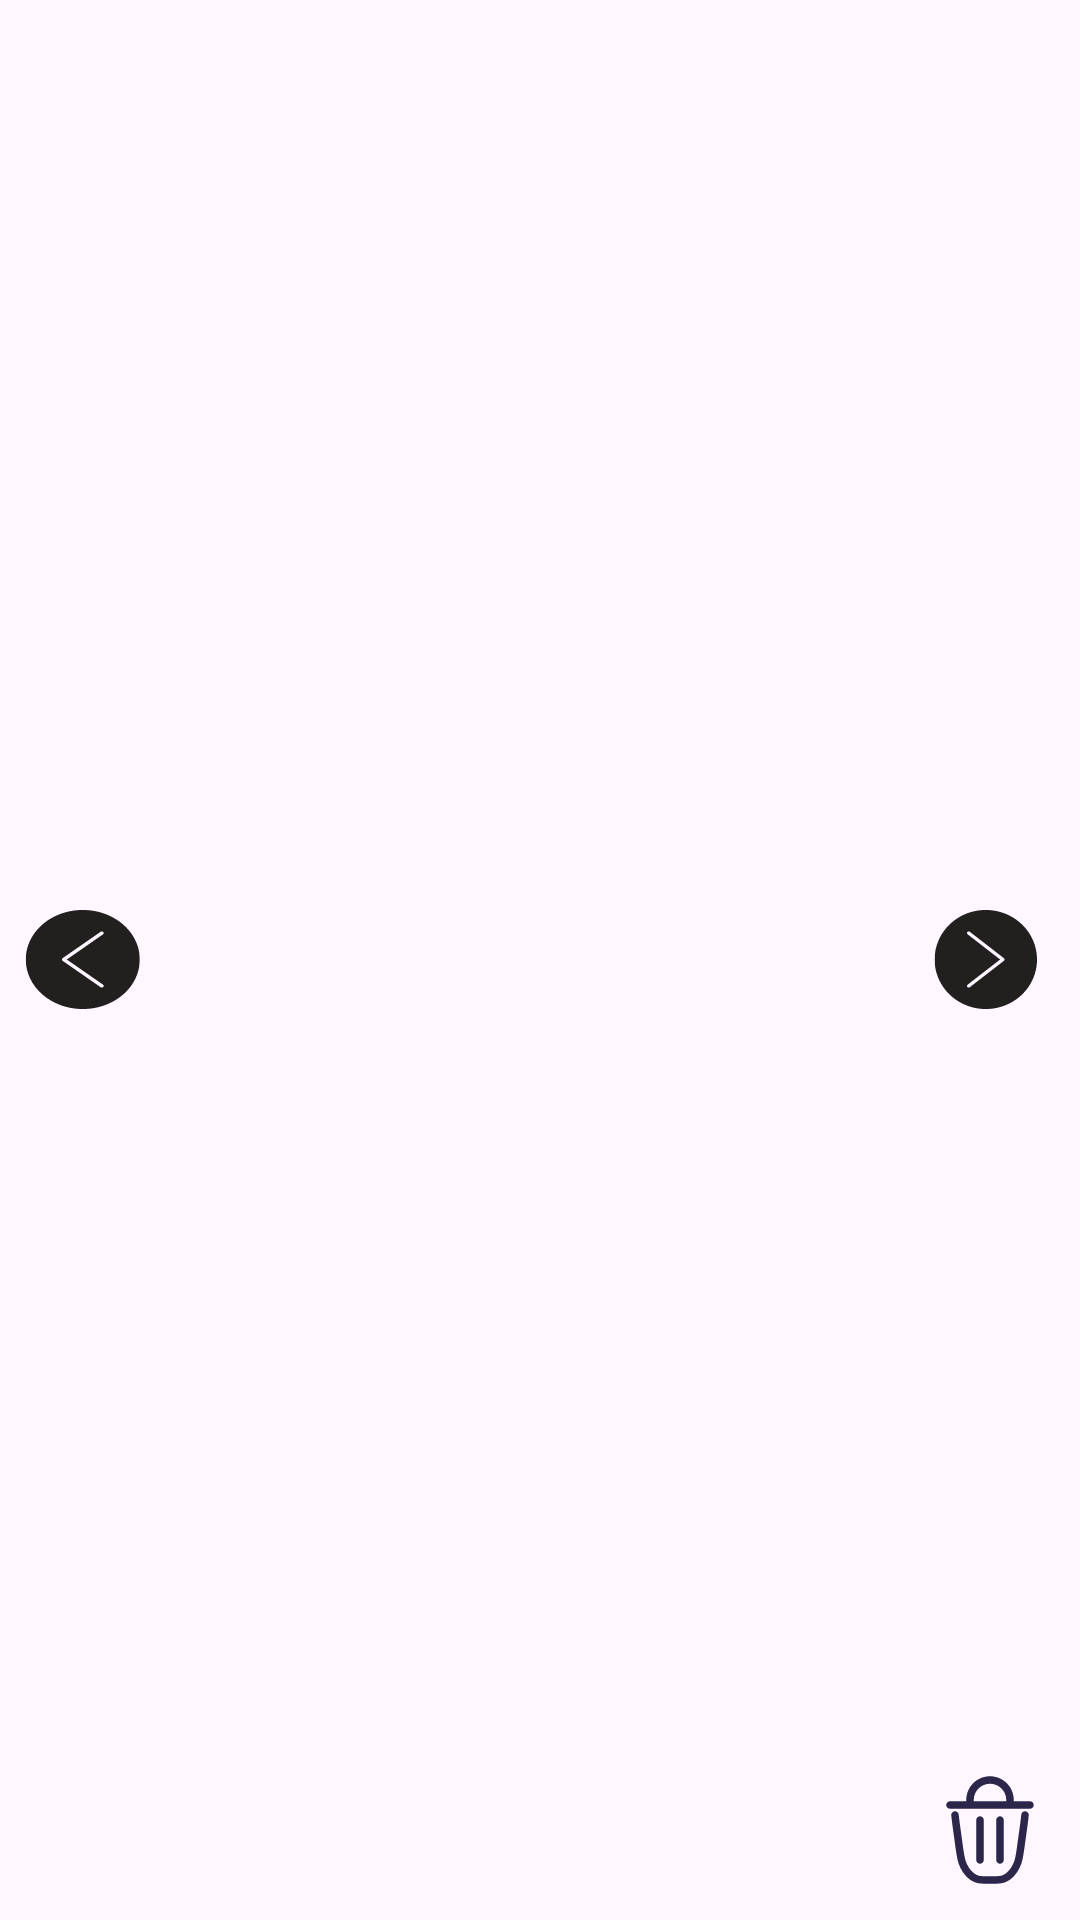

Icon bounding boxes for this 1080w x 1920h phone screenshot, format (x1, y1, x2, y2):
backword: (26, 910, 140, 1009)
del: (946, 1776, 1034, 1884)
forward: (934, 910, 1037, 1009)
